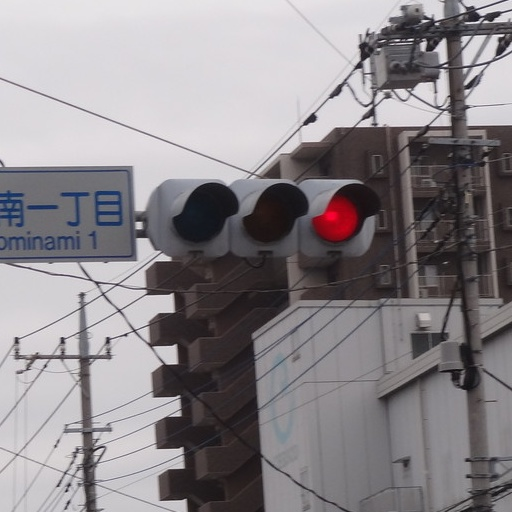Traffic_Signal_Red: (164, 173, 379, 249)
